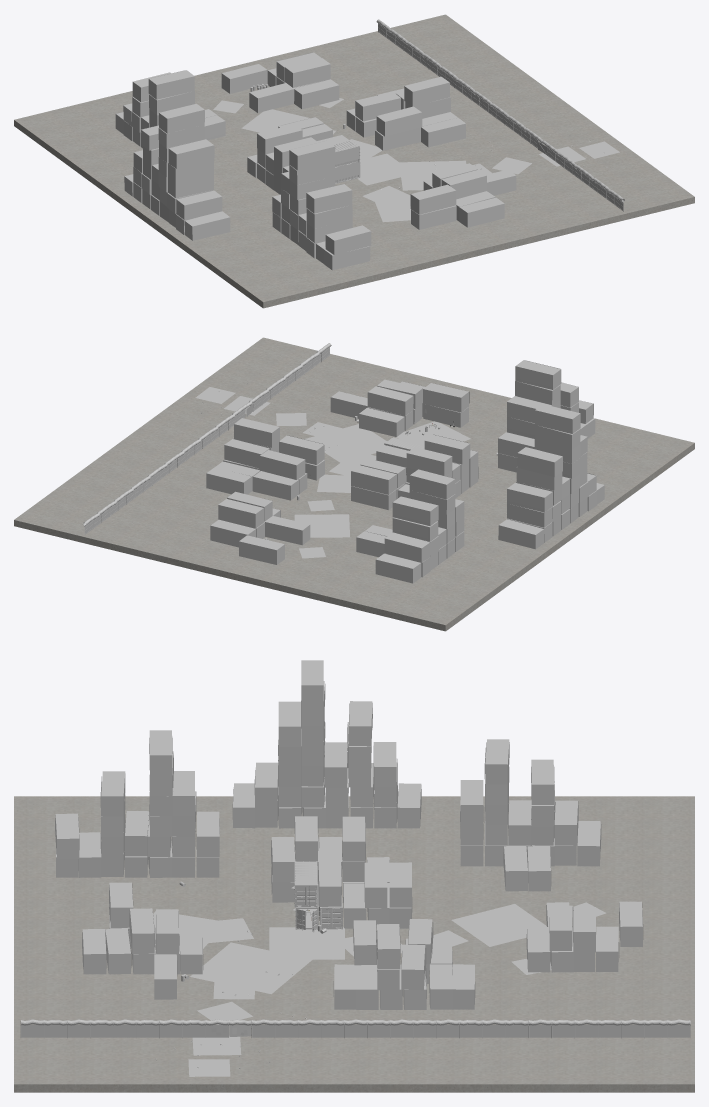
File: apocalypse scene.fbx
3 views of the same model, one above another, from view 1: azimuth 30°, elevation 25°; view 2: azimuth 150°, elevation 25°; view 3: azimuth 270°, elevation 25° (orthographic). The views are drawn at different scales.
Parts seen in each view (by area): view 1: polySurface1056, pPlane33, pCube105, pCube129, pCube115, pCube516, pCube120, group8_polySurface811, group8_polySurface702, pCube182, pCube517, pPlane7 (+30 smaller); view 2: polySurface1056, pPlane7, pPlane6, pCube130, pCube115, pCube129, group8_polySurface811, pCube131, group8_polySurface728, pCube124, pCube145, pCube134 (+36 smaller); view 3: polySurface1056, pPlane7, pPlane33, pPlane6, group8_polySurface737, pCube181, pCube105, pCube129, group8_polySurface734, pCube159, pCube517, pCube123 (+47 smaller).
Boxes of the visible parts, x1,y1,x2,y2 form: polySurface1056: (14,14,694,308); pPlane33: (357,153,414,185); pCube105: (306,184,352,213); pCube129: (148,70,194,99); pCube115: (289,140,335,170); pCube516: (376,106,422,136); pCube120: (168,139,214,168); group8_polySurface811: (410,184,456,214); group8_polySurface702: (176,190,222,220); pCube182: (284,58,330,87); pCube517: (459,197,504,227); pPlane7: (399,160,466,190); polySurface1056: (14,337,694,631); pPlane7: (304,424,386,462); pPlane6: (294,514,349,537); pCube130: (392,496,438,526); pCube115: (515,360,561,389); pCube129: (409,469,455,499); group8_polySurface811: (423,383,469,412); pCube131: (384,532,430,562); group8_polySurface728: (375,553,421,583); pCube124: (507,482,552,512); pCube145: (351,465,396,494); pCube134: (367,386,413,415); polySurface1056: (14,796,694,1092); pPlane7: (190,942,312,994); pPlane33: (269,927,344,959); pPlane6: (451,904,546,946); group8_polySurface737: (105,928,131,974); pCube181: (401,944,426,990); pCube105: (100,771,125,816); pCube129: (484,739,509,784); group8_polySurface734: (129,908,154,953); pCube159: (376,924,400,969); pCube517: (82,929,106,974); pCube123: (397,783,421,828).
Bounding box in the file's own units: 379 × 92.79 × 379.
